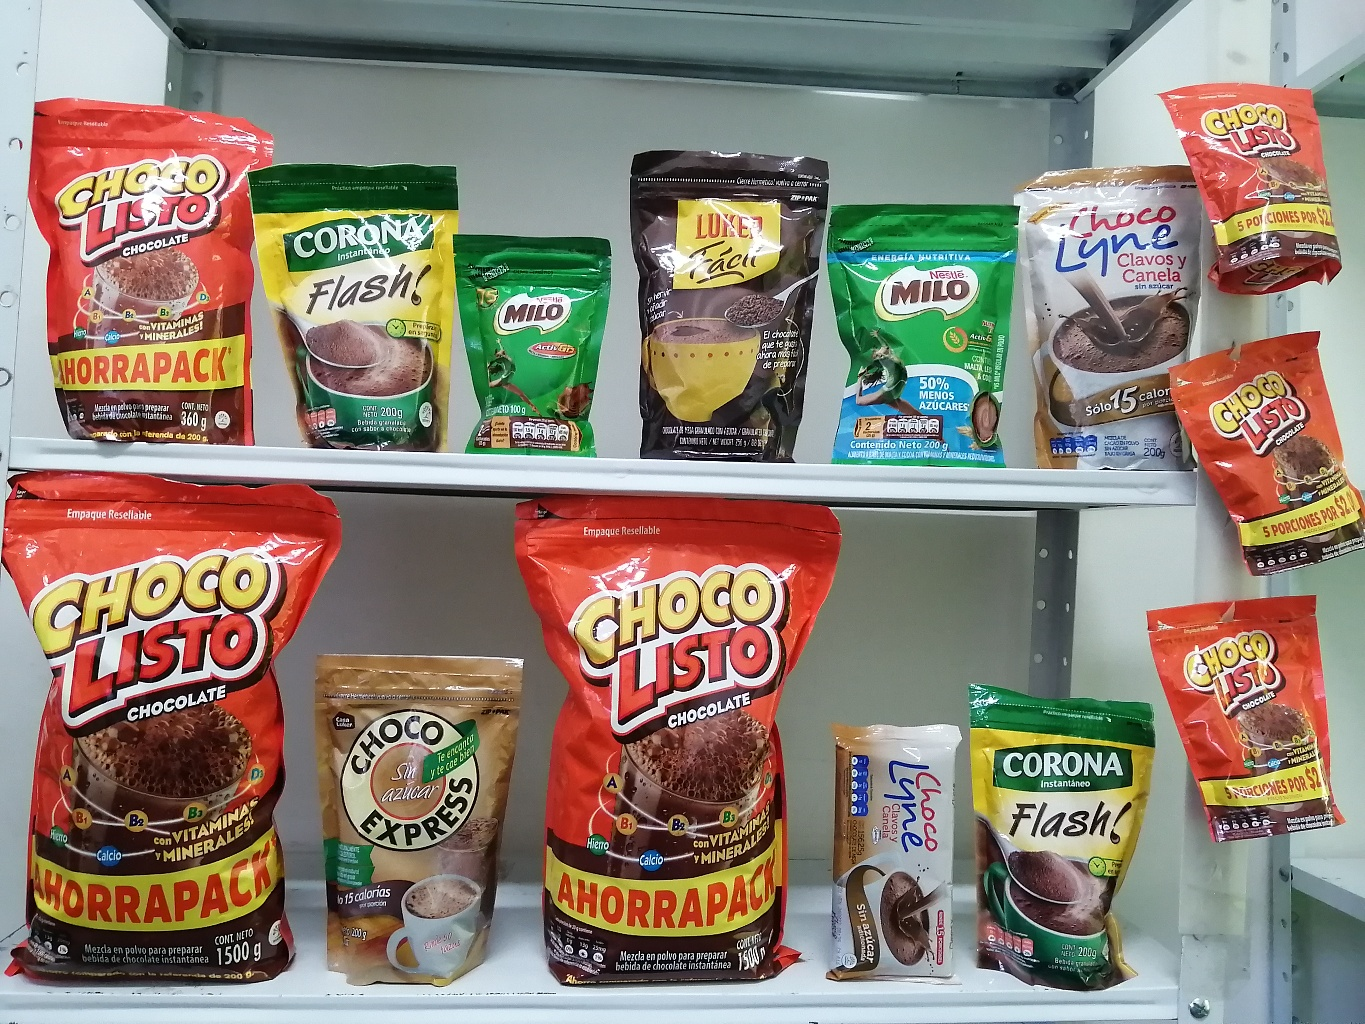COL0170103DYP1,500: (494, 479, 855, 1001)
COL0170103DYP36000: (10, 79, 283, 452)
COL0170203DYP10000: (441, 225, 623, 459)
COL0170205DYP20000: (825, 177, 1032, 474)
